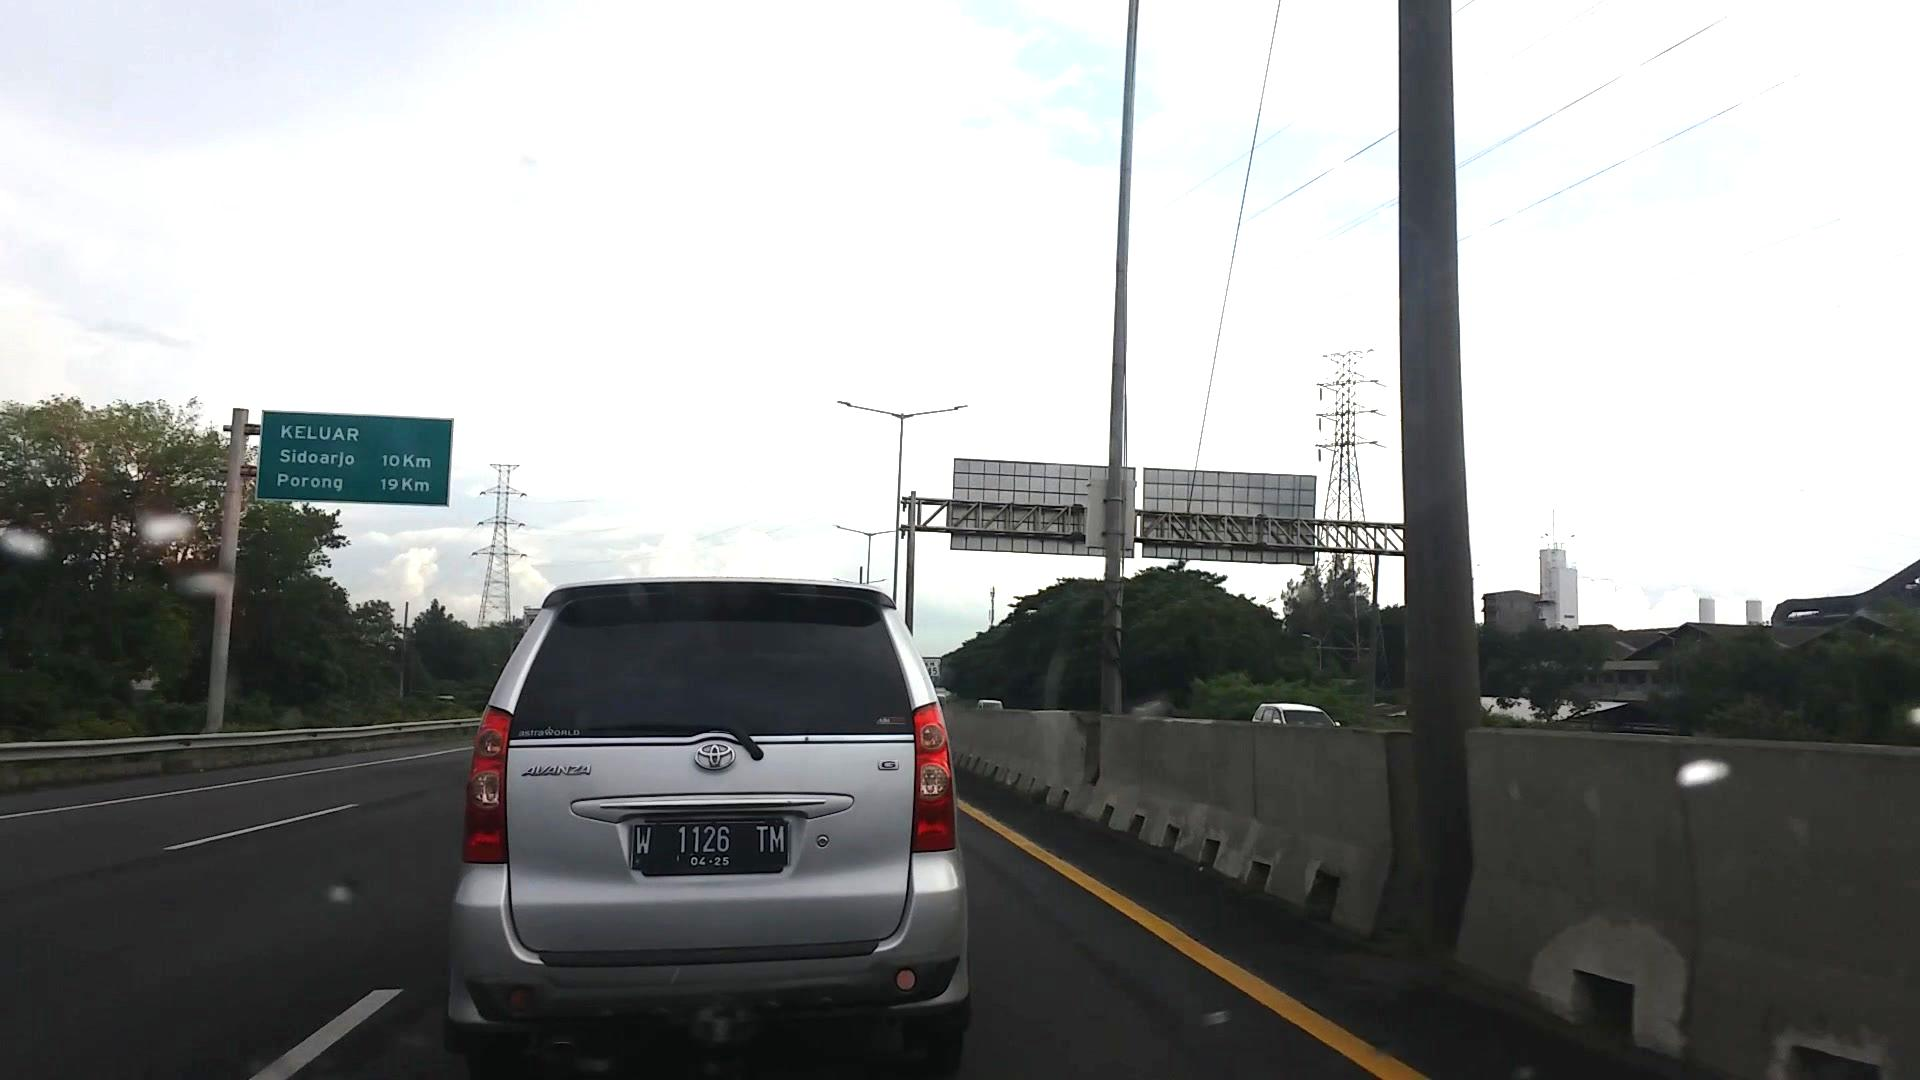plate_positive: (630, 822, 789, 868)
